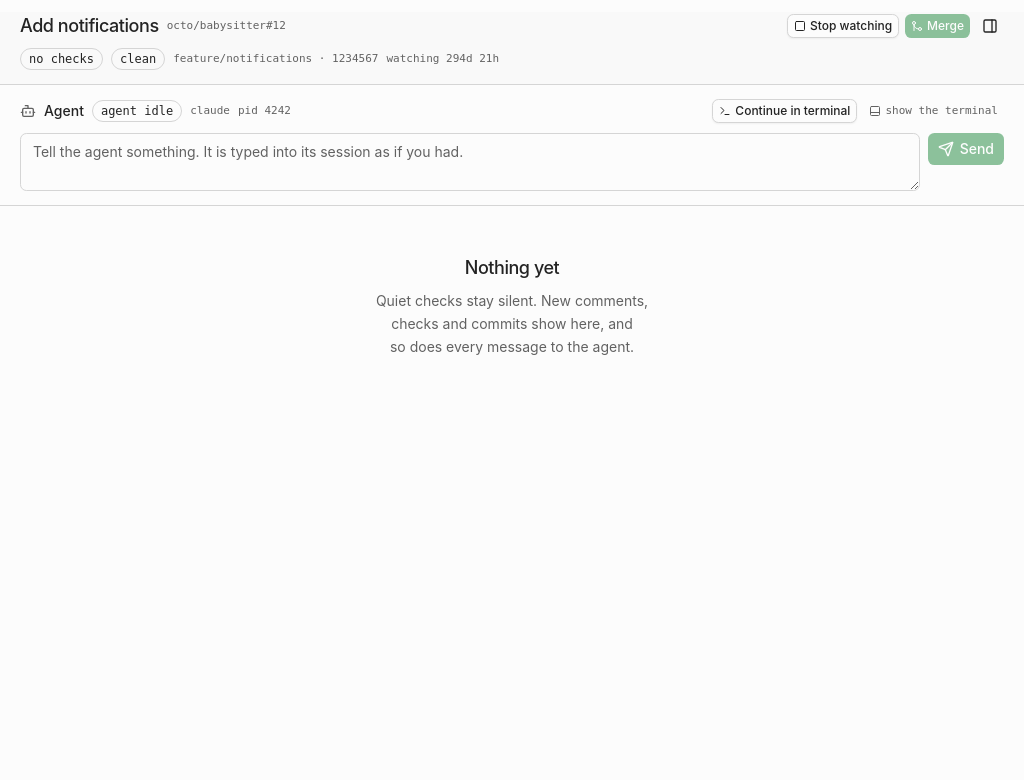
Test: an empty approvals field reads the rule of the base branch again
This screenshot has width=1024, height=780.
Click the button named "Watch settings" at x=990, y=26, box 976,12 -> 1004,40
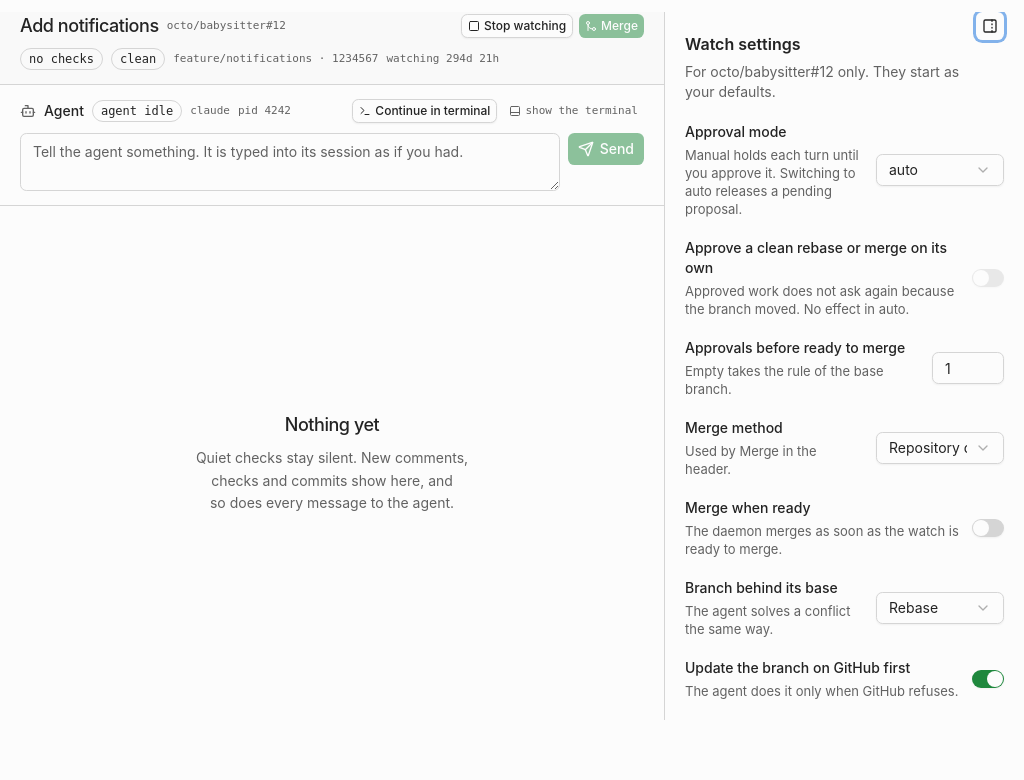
Clear the number field labelled "Approvals before ready to merge" at x=968, y=368, box 932,352 -> 1004,384
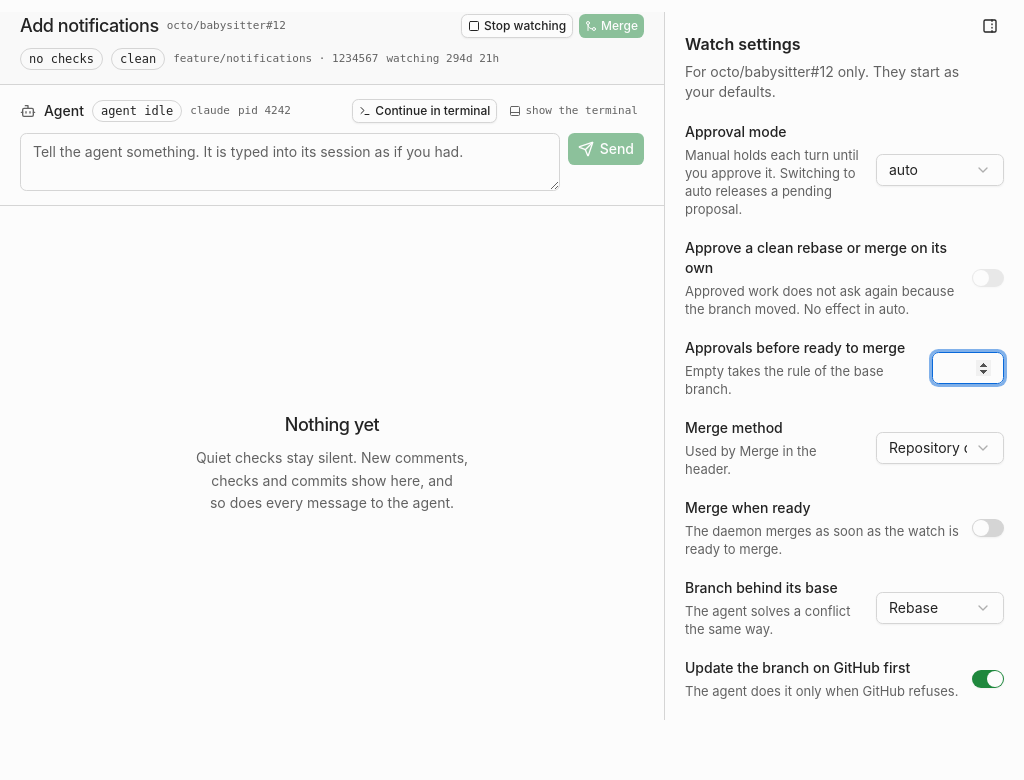
Press Enter
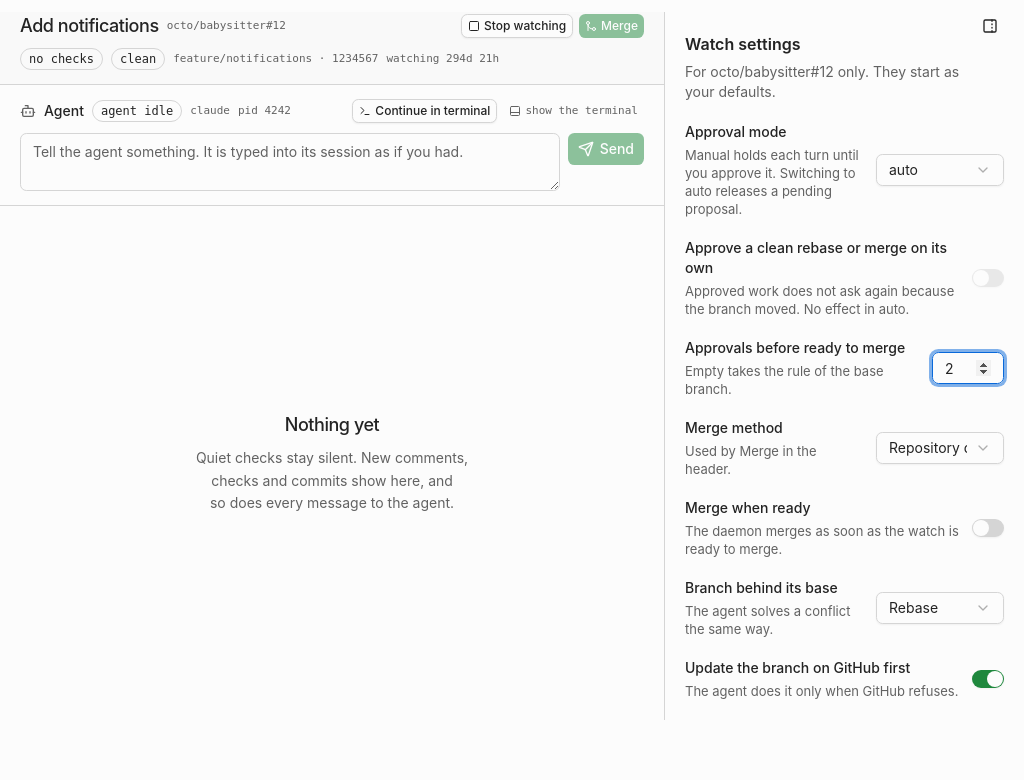
Expected: the number field labelled "Approvals before ready to merge" holds "2", 932,352 -> 1004,384
